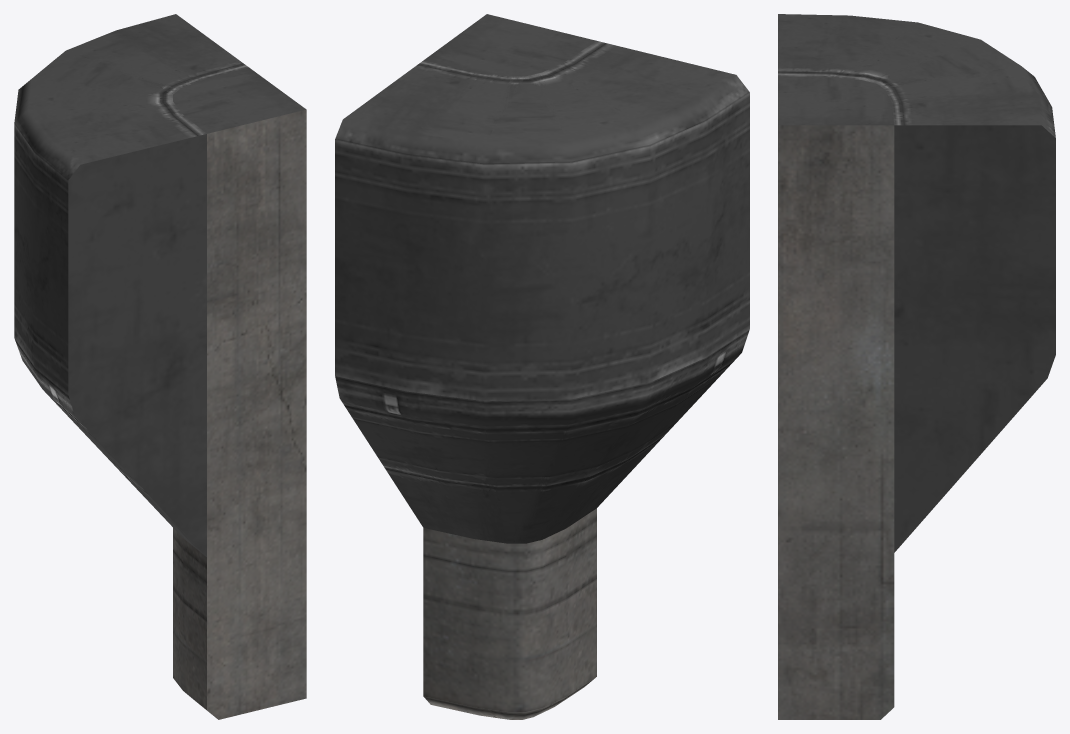
File: CP_Service_Overhang_Angle_Out.fbx
3 renders of one model, left to right at view 1: azimuth 30°, elevation 25°; view 2: azimuth 150°, elevation 25°; view 3: azimuth 270°, elevation 25°, orthographic. The views are drawn at different scales.
Parts seen in each view (by area): view 1: CP_Service_Overhang_Angle_Out; view 2: CP_Service_Overhang_Angle_Out; view 3: CP_Service_Overhang_Angle_Out.
Boxes of the visible parts, box(x1,y1,x2,y2) form: CP_Service_Overhang_Angle_Out: box(14, 14, 306, 719); CP_Service_Overhang_Angle_Out: box(335, 14, 749, 719); CP_Service_Overhang_Angle_Out: box(778, 14, 1055, 719).
Bounding box in the file's own units: 42.35 × 100 × 42.35.
